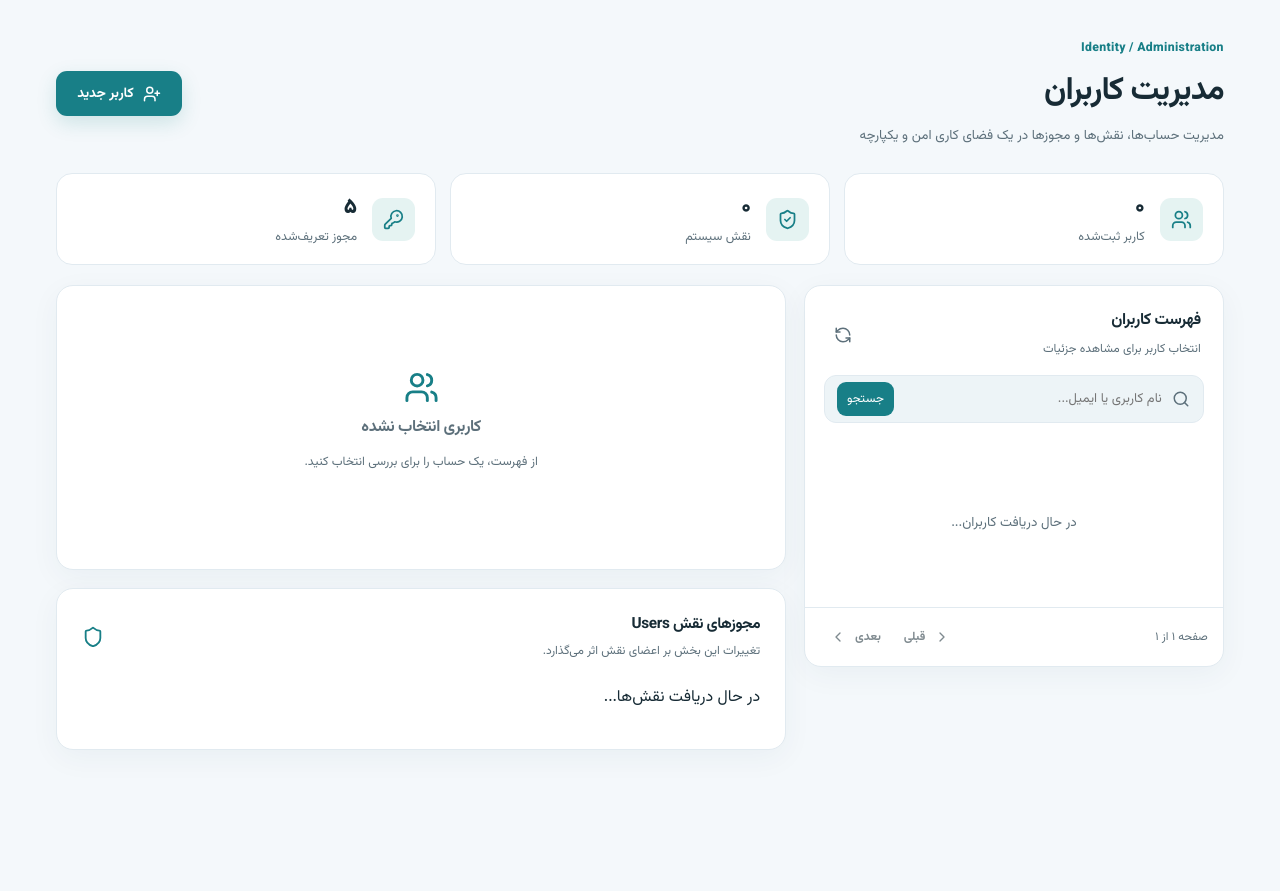
Test: Users administration workspace › shows a responsive create dialog and accessible email/password fields
Click the button "کاربر جدید" at (119,94), box [56, 71, 182, 116]
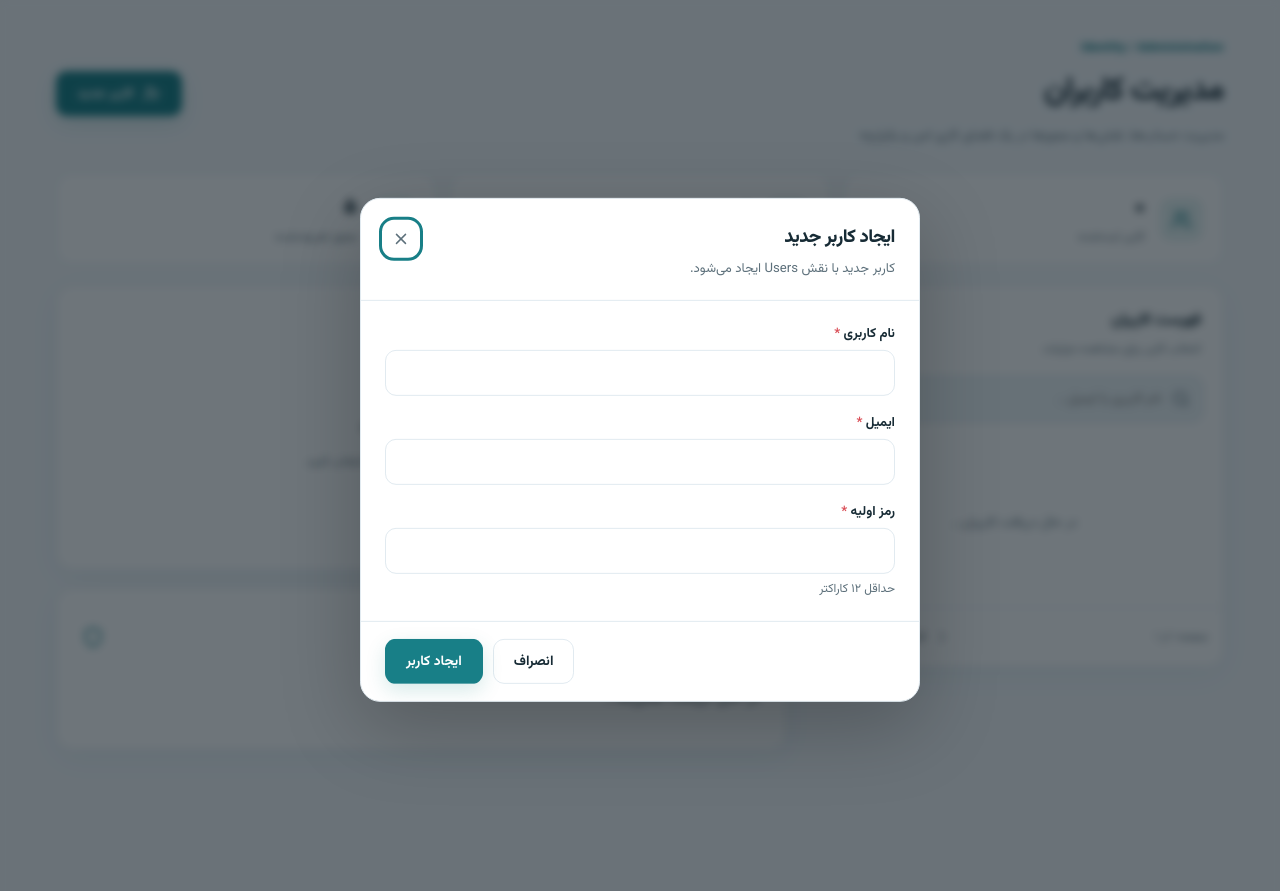
Check: the dialog "ایجاد کاربر جدید" is shown, box [360, 198, 920, 702]
Check: the field labelled "نام کاربری *" is shown, box [385, 350, 895, 396]
Check: the field labelled "ایمیل *" is shown, box [385, 439, 895, 485]
Click the button "انصراف" at (534,662), box [493, 639, 574, 684]
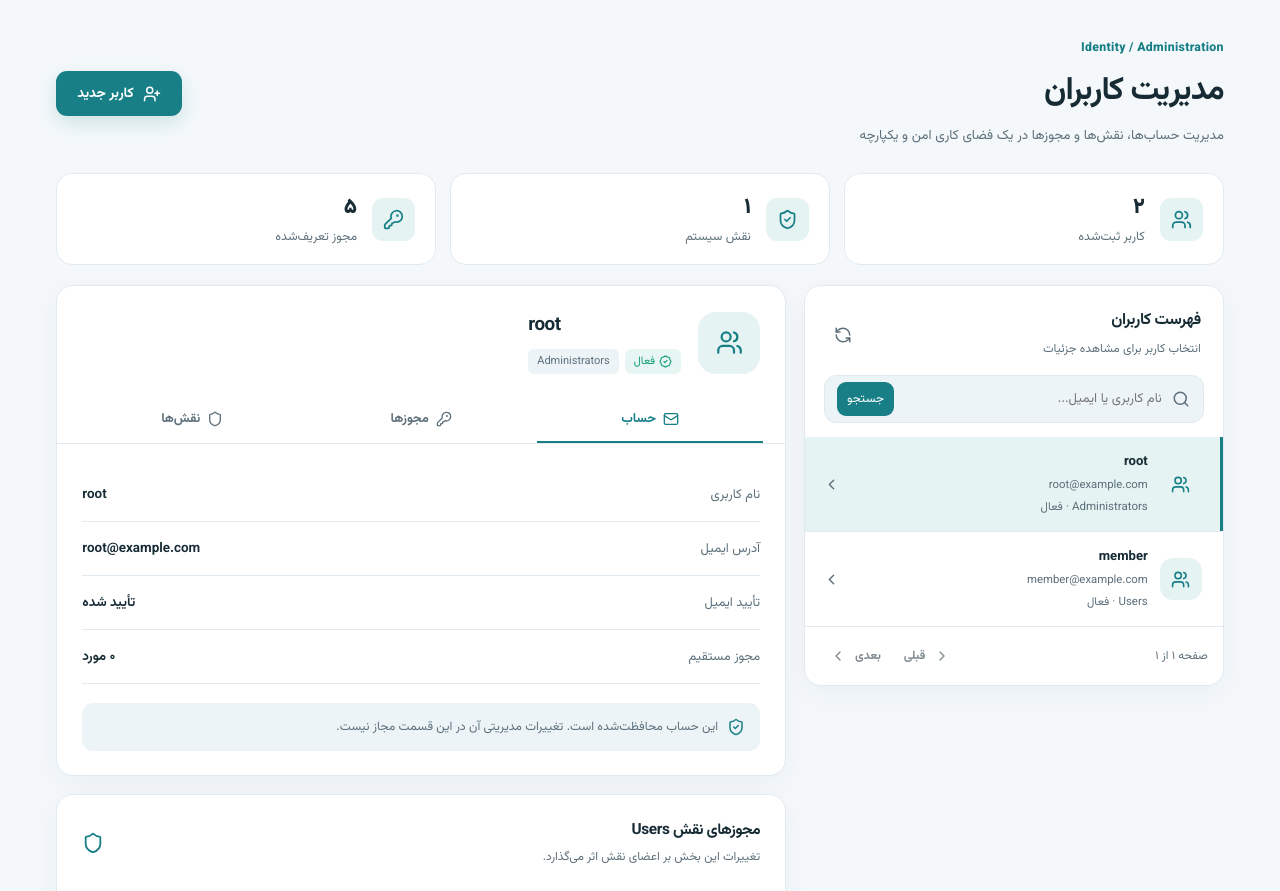
Check: the dialog is gone
